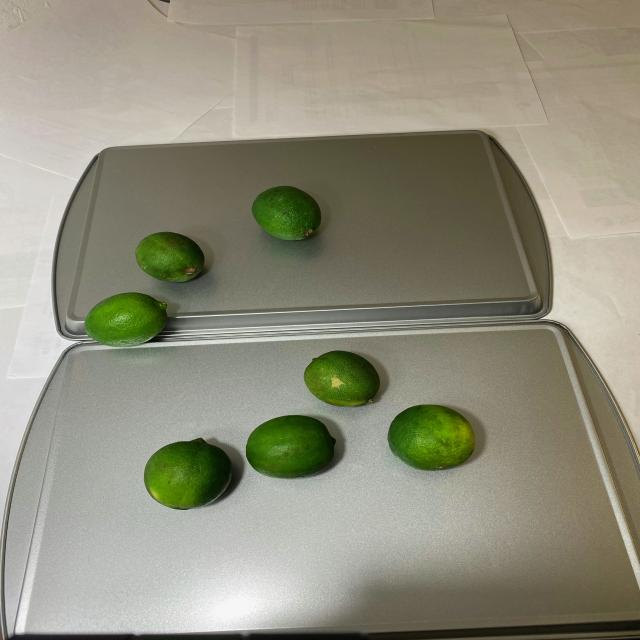lemon: (142, 350, 480, 513), (85, 184, 320, 352)
